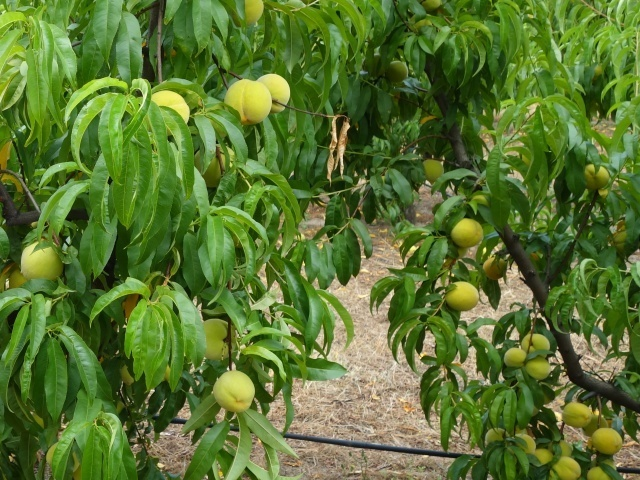peach: (219, 76, 275, 127), (208, 366, 258, 417), (189, 138, 240, 187), (16, 238, 66, 284), (148, 84, 192, 136), (196, 314, 240, 365), (254, 70, 297, 116), (442, 276, 481, 316), (449, 214, 487, 253), (560, 396, 596, 431), (590, 424, 625, 458), (519, 328, 553, 362), (522, 353, 554, 386), (416, 154, 446, 187), (580, 159, 611, 190), (509, 427, 539, 459), (234, 1, 268, 29), (546, 454, 584, 479), (480, 252, 510, 283), (581, 409, 611, 439), (499, 344, 529, 373), (528, 445, 560, 472), (482, 421, 511, 450), (383, 56, 412, 84), (545, 437, 576, 459), (584, 463, 617, 479)
